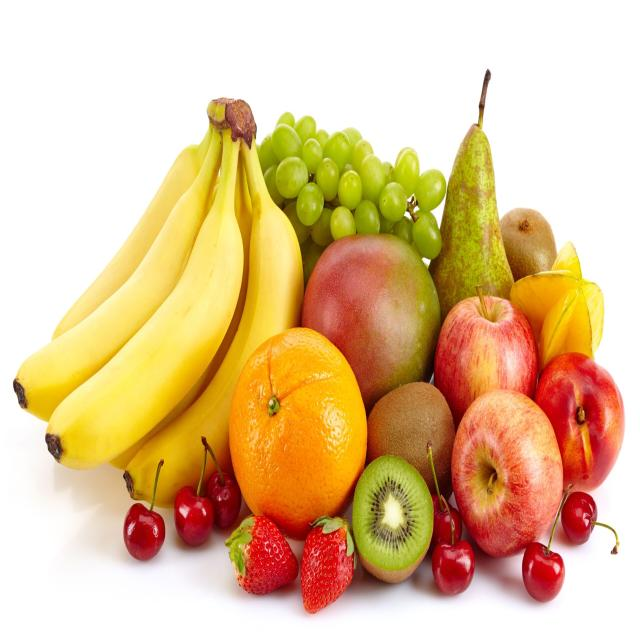apple: (443, 395, 566, 557), (536, 341, 630, 494), (435, 302, 540, 411)
banana: (16, 114, 300, 453)
green grape: (249, 98, 453, 260)
kiwi: (358, 383, 458, 500), (497, 192, 558, 286)
orange: (230, 334, 368, 518)
pear: (437, 107, 518, 307)
strawberry: (221, 509, 303, 601), (294, 517, 360, 616)
